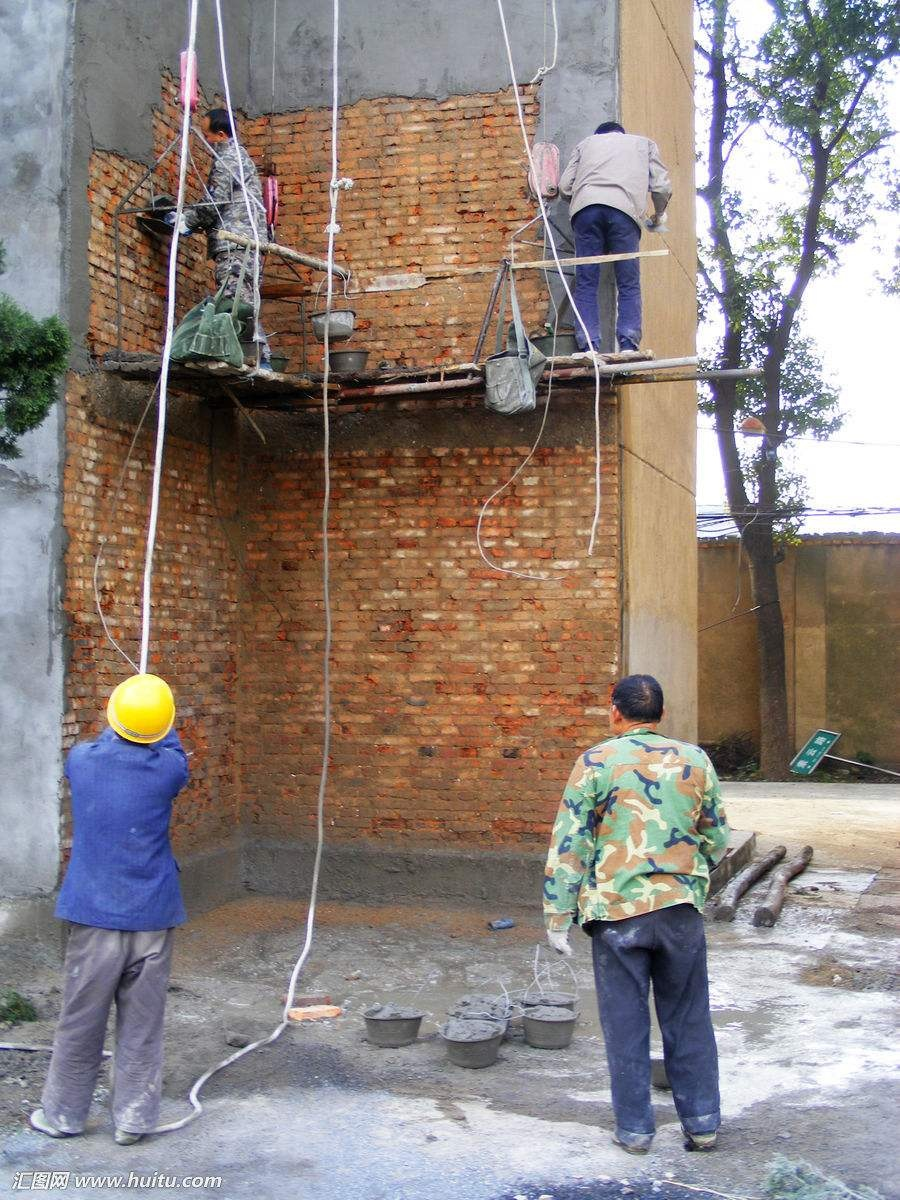none: (606, 670, 666, 742), (199, 99, 232, 148), (587, 110, 624, 143)
yellow: (102, 670, 174, 757)
